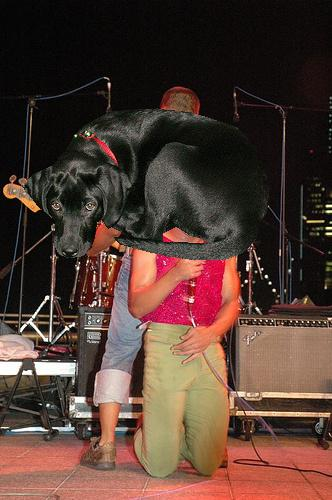tampered: (23, 110, 269, 260)
